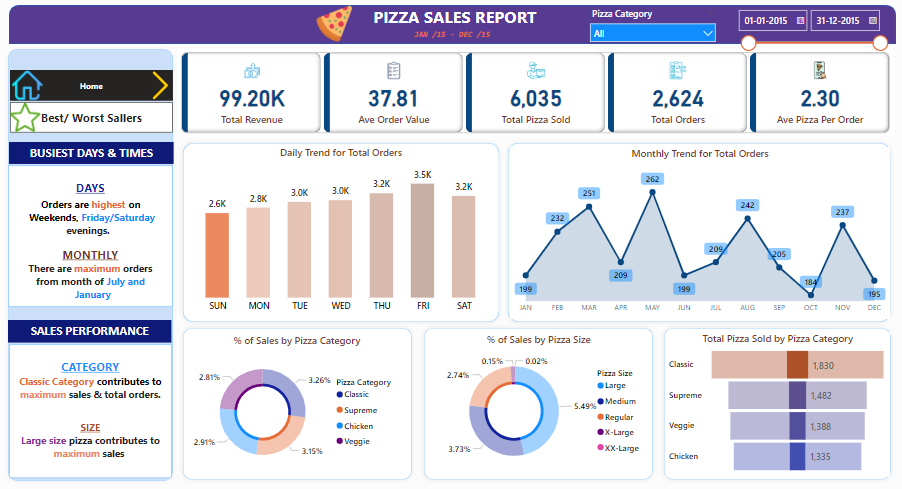

The dashboard page shown, as its layout file describes it:
{"tool":"powerbi","page":{"name":"Home","canvas":[1500,820],"ordinal":0},"visuals":[{"type":"shape","box":[16.7,78.3,286.7,725],"z":0},{"type":"textbox","box":[25.7,240,270,35.7],"z":1000},{"type":"cardVisual","fields":{"Data":["pizza_sales.Total Revenue","pizza_sales.Ave Order Value","pizza_sales.Total Pizza Sold","pizza_sales.Total Orders","pizza_sales.Ave Pizza Per Order"]},"box":[303.3,86.7,1175,143.3],"z":2000},{"type":"shape","box":[26.2,14.8,1454.7,64],"z":3000},{"type":"textbox","box":[603.5,9.8,300.1,49.2],"z":4000},{"type":"textbox","box":[685.5,47.6,157.4,27.9],"z":5000},{"type":"image","box":[523.2,9.8,73.8,70.5],"z":6000},{"type":"shape","box":[303.3,233.3,535,310],"z":7000},{"type":"columnChart","title":"Daily Trend for Total Orders","fields":{"Category":["pizza_sales.Order Day"],"Y":["pizza_sales.Total Orders"]},"box":[316.7,246.7,508.3,281.7],"z":8000},{"type":"shape","box":[836.7,233.3,643.3,310],"z":9000},{"type":"areaChart","title":"Monthly Trend for Total Orders","fields":{"Y":["pizza_sales.Total Orders"],"Category":["pizza_sales.Order Month"]},"box":[848.3,248.3,623.3,281.7],"z":10000},{"type":"shape","box":[303.3,536.7,391.7,265],"z":11000},{"type":"shape","box":[1091.7,536.7,388.3,265],"z":12000},{"type":"shape","box":[698.3,536.7,391.7,265],"z":13000},{"type":"donutChart","title":"% of Sales by Pizza Category","fields":{"Category":["pizza_sales.pizza_category"],"Y":["pizza_sales.Total Revenue"]},"box":[316.7,555,363.3,235],"z":14000},{"type":"donutChart","title":"% of Sales by Pizza Size","fields":{"Y":["pizza_sales.Total Revenue"],"Category":["pizza_sales.pizza_size"]},"box":[713.3,553.3,363.3,235],"z":15000},{"type":"funnel","title":"Total Pizza Sold by Pizza Category","fields":{"Y":["pizza_sales.Total Pizza Sold"],"Category":["pizza_sales.pizza_category"]},"box":[1103.3,551.7,366.7,236.7],"z":16000},{"type":"textbox","box":[25,276.7,270,233.3],"z":17000},{"type":"textbox","box":[26.7,570,266.7,220],"z":18000},{"type":"textbox","box":[25,531.7,268.3,36.7],"z":19000},{"type":"slicer","fields":{"Values":["pizza_sales.pizza_category"]},"box":[969.2,13.1,226.3,62.3],"z":20000},{"type":"multiRowCard","fields":{"Values":["pizza_sales.order_date"]},"box":[1210.3,13.1,265.7,83.6],"z":21000},{"type":"pageNavigator","box":[27.1,121.4,267.1,50],"z":22000},{"type":"pageNavigator","box":[27.1,174.3,267.1,50],"z":23000},{"type":"image","box":[246.7,118.3,56.7,56.7],"z":24000},{"type":"image","box":[26.7,116.7,60,60],"z":25000},{"type":"image","box":[20,168.3,66.7,60],"z":26000}]}

Visuals, with their boxes in screenshot pixels (x1, y1, x2, y2), scaled from the page's 1500x820 canvas onto the 902x489 screenshot:
shape: rect(10, 47, 182, 479)
textbox: rect(15, 143, 178, 164)
cardVisual - pizza_sales.Total Revenue x pizza_sales.Ave Order Value: rect(182, 52, 889, 137)
shape: rect(16, 9, 891, 47)
textbox: rect(363, 6, 543, 35)
textbox: rect(412, 28, 507, 45)
image: rect(315, 6, 359, 48)
shape: rect(182, 139, 504, 324)
"Daily Trend for Total Orders" columnChart: rect(190, 147, 496, 315)
shape: rect(503, 139, 890, 324)
"Monthly Trend for Total Orders" areaChart: rect(510, 148, 885, 316)
shape: rect(182, 320, 418, 478)
shape: rect(656, 320, 890, 478)
shape: rect(420, 320, 655, 478)
"% of Sales by Pizza Category" donutChart: rect(190, 331, 409, 471)
"% of Sales by Pizza Size" donutChart: rect(429, 330, 647, 470)
"Total Pizza Sold by Pizza Category" funnel: rect(663, 329, 884, 470)
textbox: rect(15, 165, 177, 304)
textbox: rect(16, 340, 176, 471)
textbox: rect(15, 317, 176, 339)
slicer - pizza_sales.pizza_category: rect(583, 8, 719, 45)
multiRowCard - pizza_sales.order_date: rect(728, 8, 888, 58)
pageNavigator: rect(16, 72, 177, 102)
pageNavigator: rect(16, 104, 177, 134)
image: rect(148, 71, 182, 104)
image: rect(16, 70, 52, 105)
image: rect(12, 100, 52, 136)
